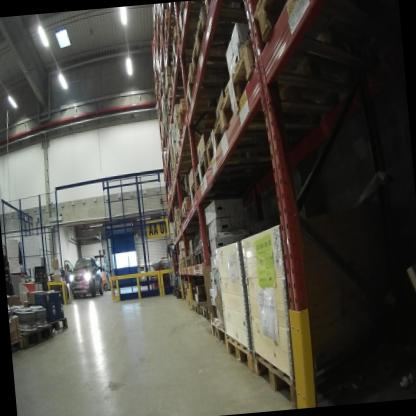forklift: (90, 244, 115, 293)
pallet: (202, 32, 361, 173), (200, 106, 300, 180), (187, 0, 265, 74), (185, 59, 252, 114), (172, 81, 238, 133), (253, 346, 301, 409), (171, 123, 224, 173), (255, 0, 315, 44), (192, 152, 257, 191), (168, 28, 217, 70), (225, 330, 262, 377), (20, 318, 55, 357), (155, 9, 187, 49), (162, 72, 189, 118), (176, 1, 206, 35), (203, 321, 230, 355), (45, 313, 73, 338), (197, 242, 214, 269), (11, 330, 27, 356), (180, 193, 194, 222), (198, 297, 212, 322), (187, 181, 199, 209), (190, 298, 205, 319), (177, 206, 190, 228), (189, 247, 200, 269), (180, 292, 193, 310), (185, 255, 194, 272), (174, 220, 184, 235), (208, 308, 214, 320), (177, 259, 182, 272), (182, 258, 186, 269)
pallet_truck: (166, 236, 188, 308), (166, 247, 178, 297), (165, 246, 175, 298)
